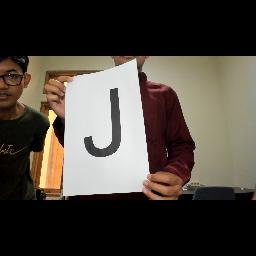j: (76, 85, 132, 161)
